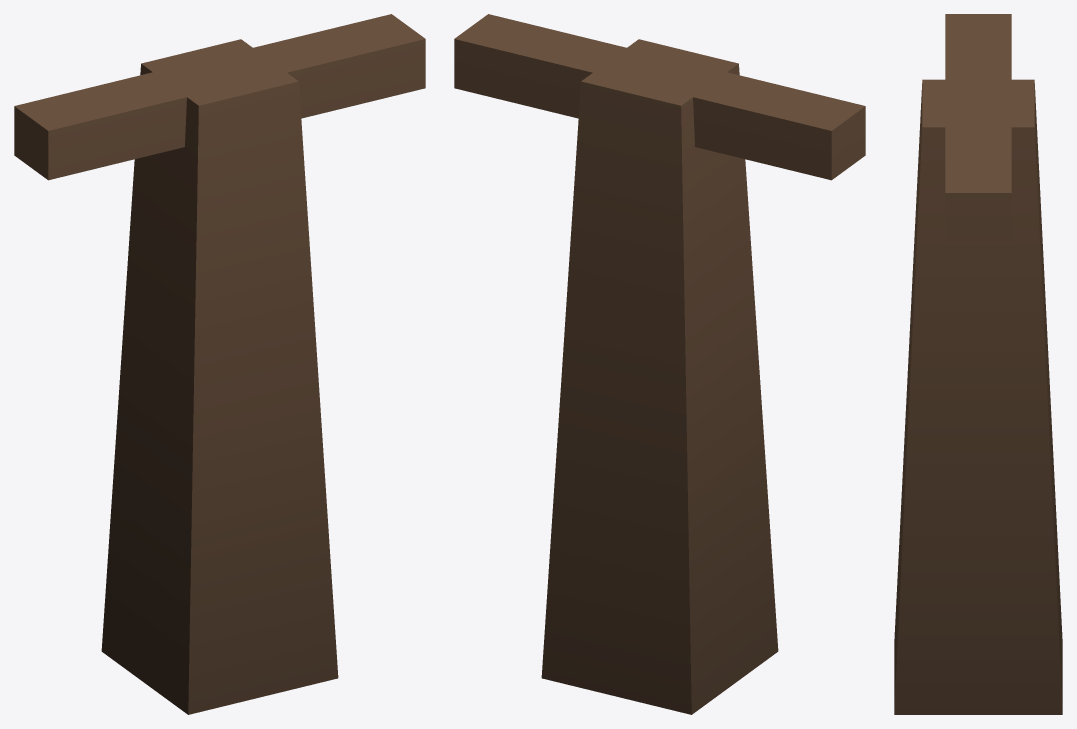
The model's file is medium-electric-pole.glb.
3 views of the same model, side by side, from view 1: azimuth 30°, elevation 25°; view 2: azimuth 150°, elevation 25°; view 3: azimuth 270°, elevation 25° (orthographic). The views are drawn at different scales.
Parts seen in each view (by area): view 1: medium-electric-pole; view 2: medium-electric-pole; view 3: medium-electric-pole.
Part boxes in pixels (box(x1,y1,x2,y2)): medium-electric-pole: box(14, 14, 425, 714); medium-electric-pole: box(454, 14, 865, 714); medium-electric-pole: box(894, 14, 1062, 714).
Size of the model in its own units: 0.16 by 0.24 by 0.0636.
